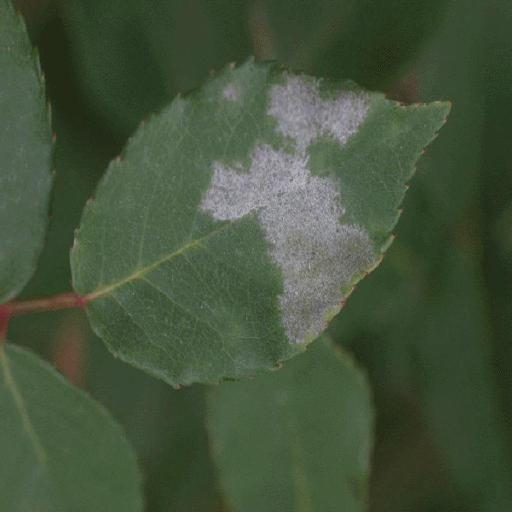powdery_mildew: (71, 58, 449, 385)
